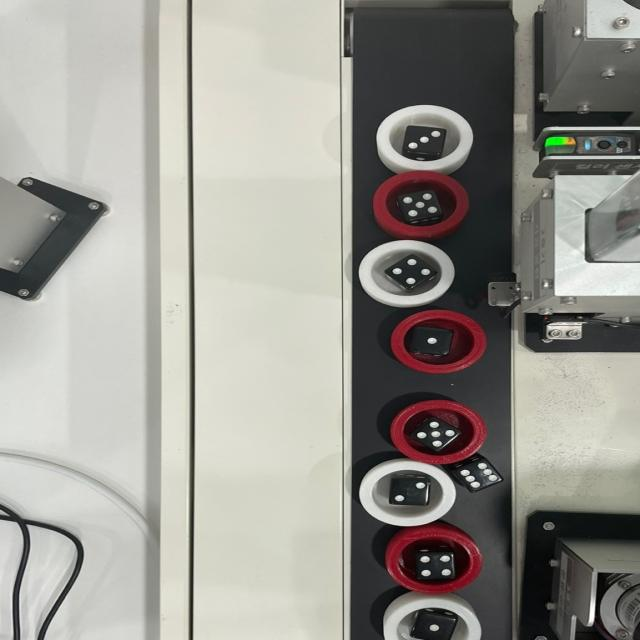DICE1: (417, 325, 447, 353), (422, 615, 449, 639)
DICE2: (394, 478, 426, 502)
DICE3: (404, 124, 449, 155)
DICE4: (388, 258, 433, 285), (415, 554, 454, 578)
DICE5: (414, 420, 456, 447), (398, 194, 442, 218)
DICE6: (460, 462, 501, 488)
RedChip: (372, 170, 470, 237), (390, 309, 484, 374), (390, 399, 485, 463), (386, 531, 484, 593)
WhiteChip: (359, 240, 457, 308), (377, 104, 474, 170), (361, 462, 457, 526), (387, 599, 482, 640)
